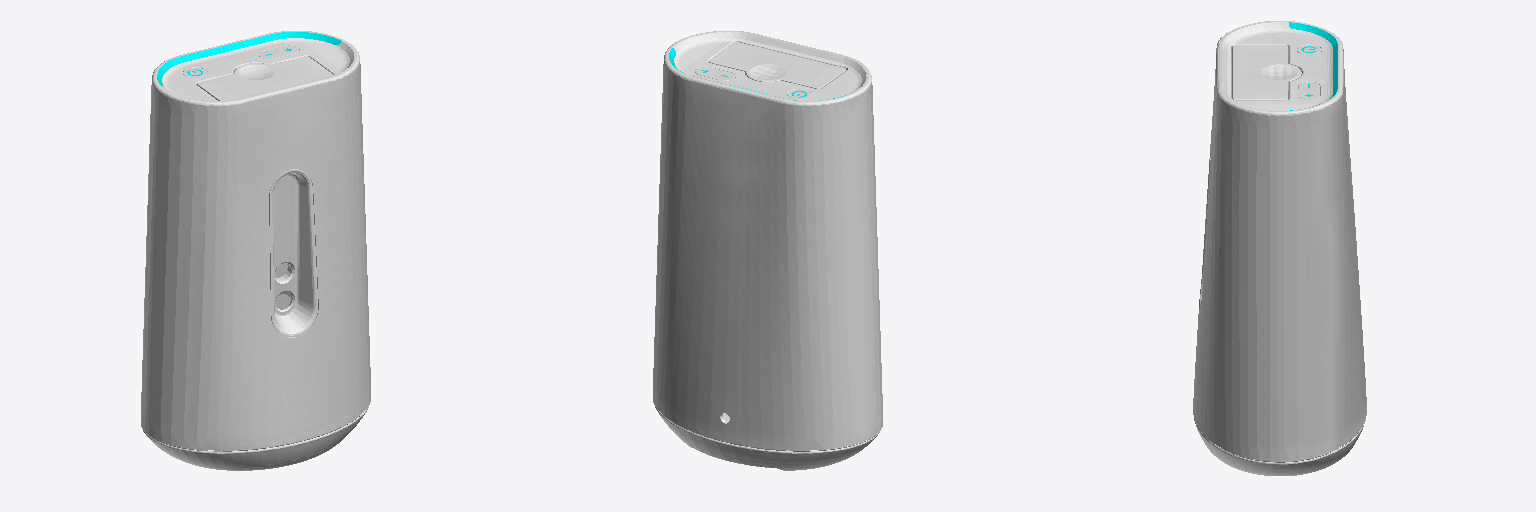
The picture shows the model from 3 angles: view 1: azimuth 30°, elevation 25°; view 2: azimuth 150°, elevation 25°; view 3: azimuth 270°, elevation 25°; orthographic projection.
Visible parts, largest first — view 1: Airia_Body, Airia_Head, Object; view 2: Airia_Body, Airia_Head; view 3: Airia_Body, Airia_Head, Object.
Part boxes in pixels (left/top/right/bottom): Airia_Body: left=141, top=31, right=370, bottom=451; Airia_Head: left=143, top=407, right=368, bottom=470; Object: left=157, top=32, right=341, bottom=86; Airia_Body: left=653, top=31, right=882, bottom=451; Airia_Head: left=655, top=407, right=880, bottom=470; Airia_Body: left=1193, top=21, right=1366, bottom=462; Airia_Head: left=1194, top=419, right=1365, bottom=475; Object: left=1289, top=22, right=1337, bottom=110.
Bounding box in the file's own units: 7.72 × 13.07 × 5.44.
Materials: 3 (1 with a texture image).